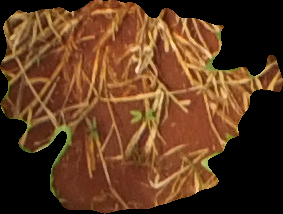soil: (2, 1, 283, 213)
